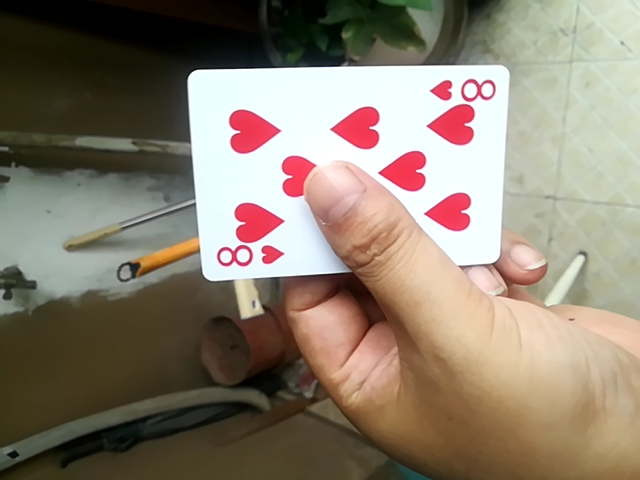hx 8: (184, 61, 514, 273)
